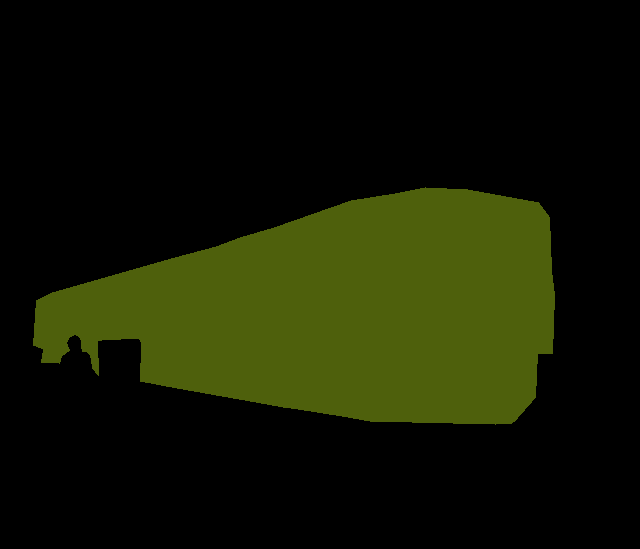Train: (33, 187, 555, 425)
